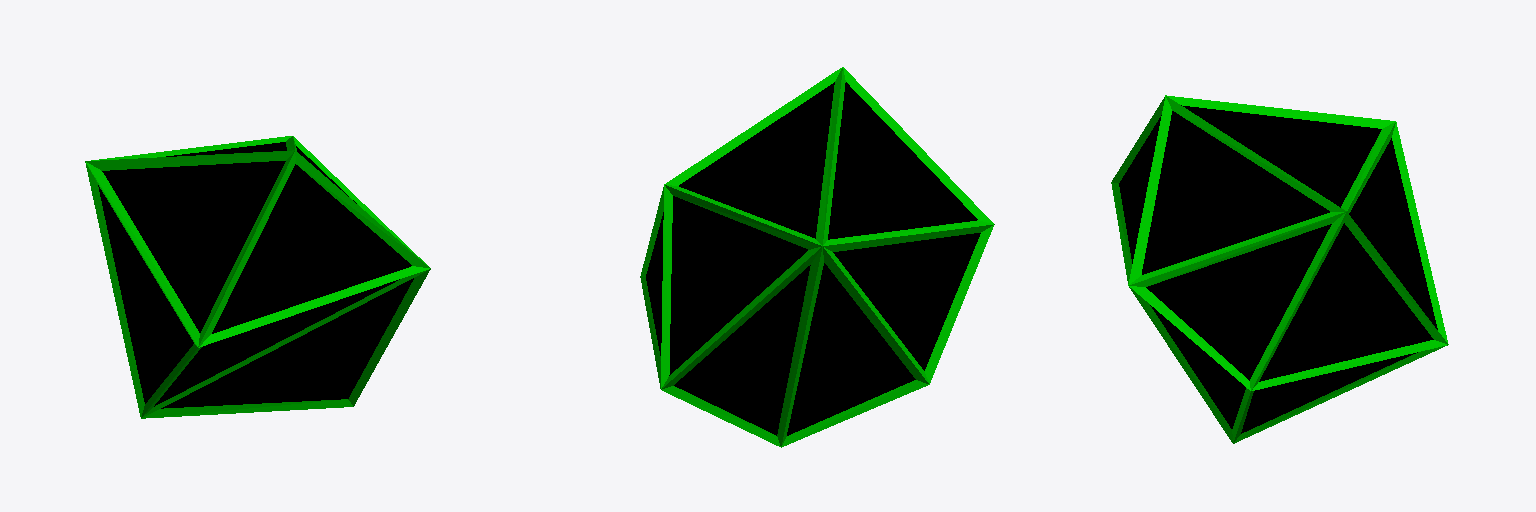
The model's file is smoke_wired.obj.
3 renders of one model, left to right at view 1: azimuth 30°, elevation 25°; view 2: azimuth 150°, elevation 25°; view 3: azimuth 270°, elevation 25°, orthographic.
Parts seen in each view (by area): view 1: Icosphere, Icosphere.001; view 2: Icosphere, Icosphere.001; view 3: Icosphere, Icosphere.001.
Boxes of the visible parts, <box> form: Icosphere: <box>98,142,413,408</box>; Icosphere.001: <box>85,136,430,418</box>; Icosphere: <box>646,82,980,435</box>; Icosphere.001: <box>640,67,994,447</box>; Icosphere: <box>1119,105,1437,433</box>; Icosphere.001: <box>1111,95,1448,443</box>.
Size of the model in its own units: 1.88 by 1.91 by 1.93.